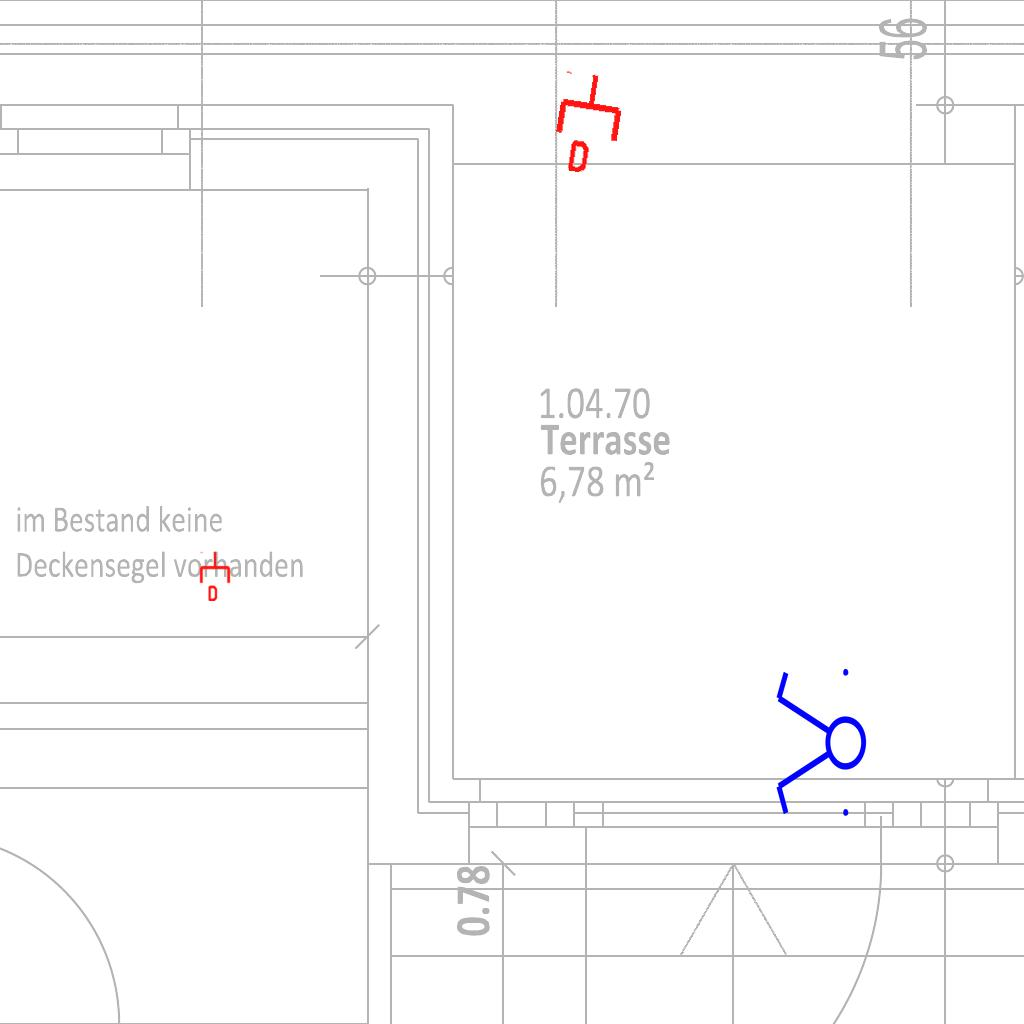Datenanschluss_einfach: (546, 68, 631, 178), (198, 551, 232, 601)
Serienschalter: (772, 660, 868, 828)
